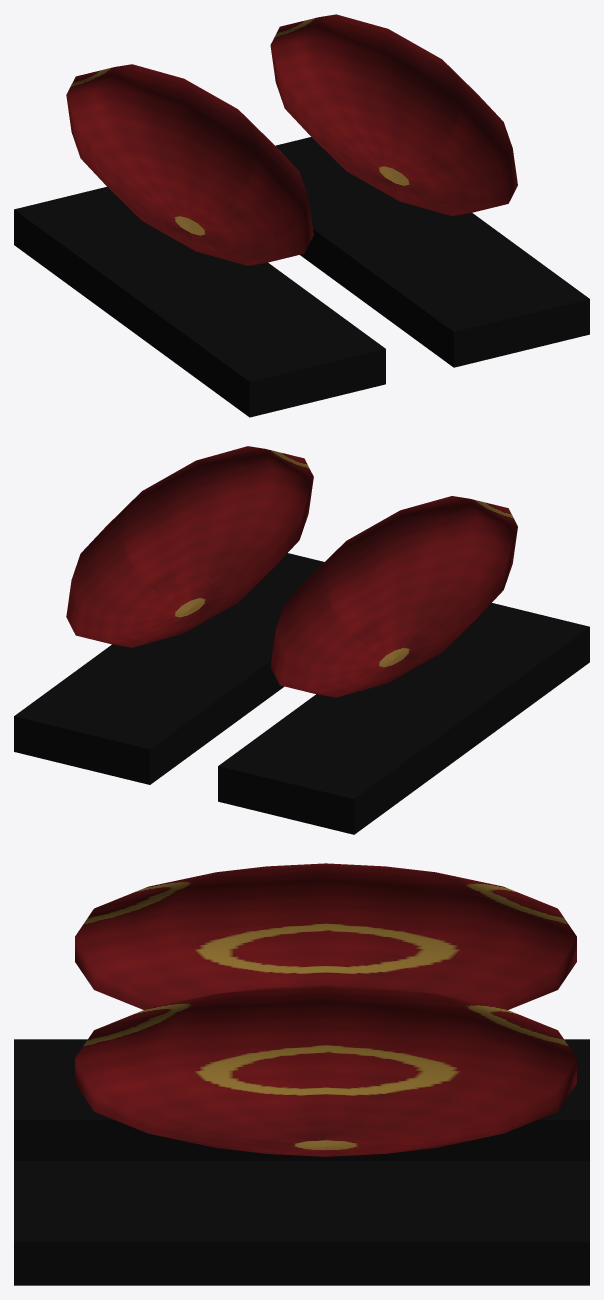
File: red_shoes.glb
3 renders of one model, top to bottom at view 1: azimuth 30°, elevation 25°; view 2: azimuth 150°, elevation 25°; view 3: azimuth 270°, elevation 25°, orthographic. The views are drawn at different scales.
Visible parts, largest first — view 1: Sole0, Sole1, Shoe0, Shoe1; view 2: Sole0, Shoe1, Shoe0, Sole1; view 3: Sole1, Shoe1, Shoe0, Sole0.
Part boxes in pixels (x1=…): Sole0: x1=14, y1=187, x2=385, y2=417; Sole1: x1=275, y1=137, x2=589, y2=367; Shoe0: x1=66, y1=64, x2=313, y2=265; Shoe1: x1=270, y1=14, x2=517, y2=215; Sole0: x1=218, y1=603, x2=589, y2=834; Shoe1: x1=66, y1=446, x2=313, y2=647; Shoe0: x1=270, y1=496, x2=517, y2=697; Sole1: x1=14, y1=553, x2=324, y2=784; Sole1: x1=14, y1=1161, x2=589, y2=1285; Shoe1: x1=75, y1=985, x2=576, y2=1156; Shoe0: x1=75, y1=863, x2=576, y2=1009; Sole0: x1=14, y1=1039, x2=589, y2=1160.
Size of the model in its own units: 0.2 by 0.115 by 0.24.
2 materials, 2 textured.
